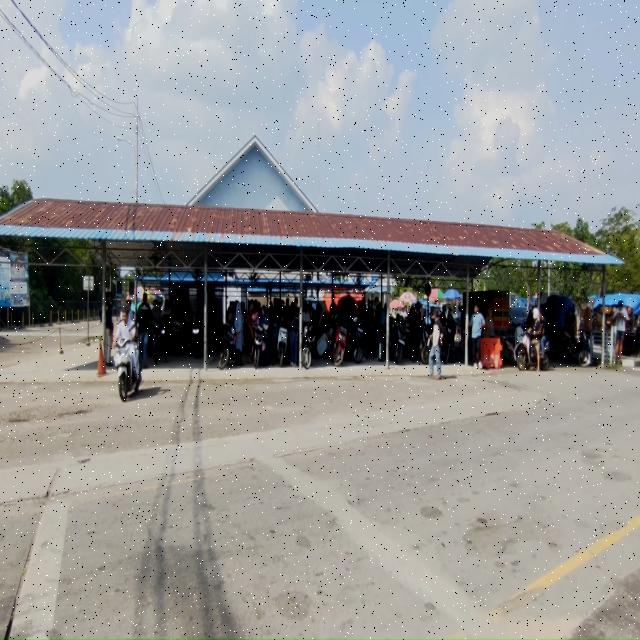Golongan II: (114, 339, 139, 402), (515, 329, 550, 371), (559, 332, 591, 367), (302, 324, 320, 369), (332, 317, 348, 366), (219, 324, 236, 370), (348, 316, 364, 364), (394, 314, 408, 365), (442, 318, 457, 364), (253, 324, 268, 369), (151, 322, 166, 365), (420, 321, 433, 365), (190, 320, 204, 358), (276, 326, 288, 367), (171, 317, 183, 356)
